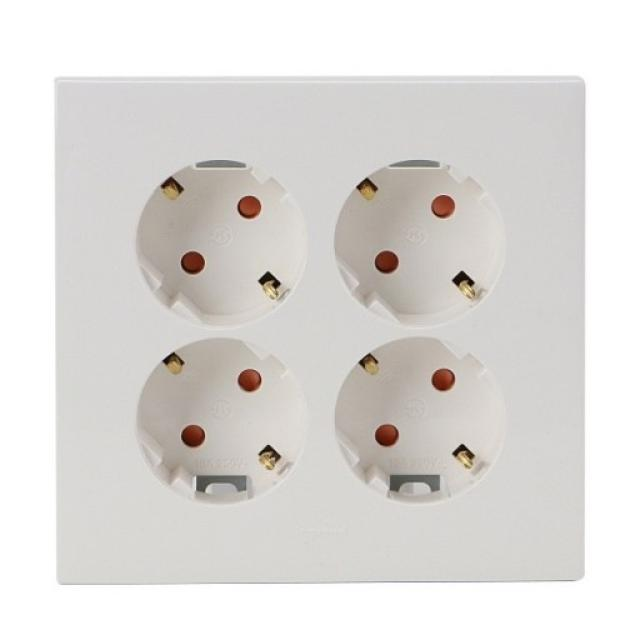typeb: (29, 56, 617, 623)
